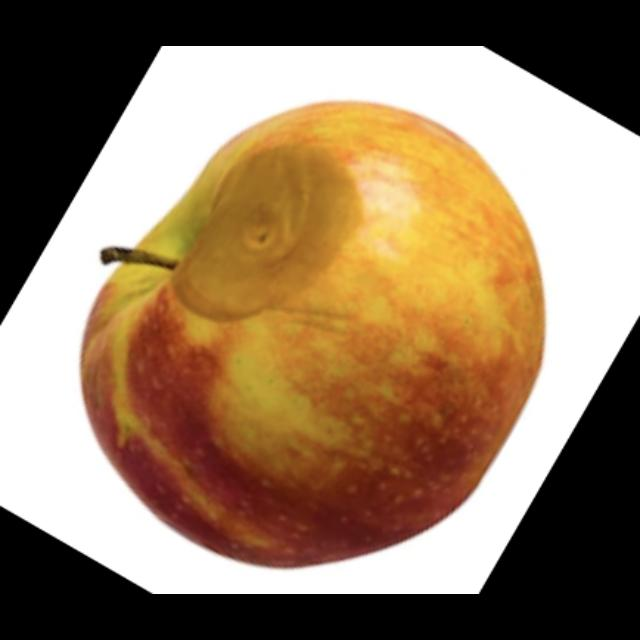Apel Tidak Segar: (72, 100, 548, 576)
